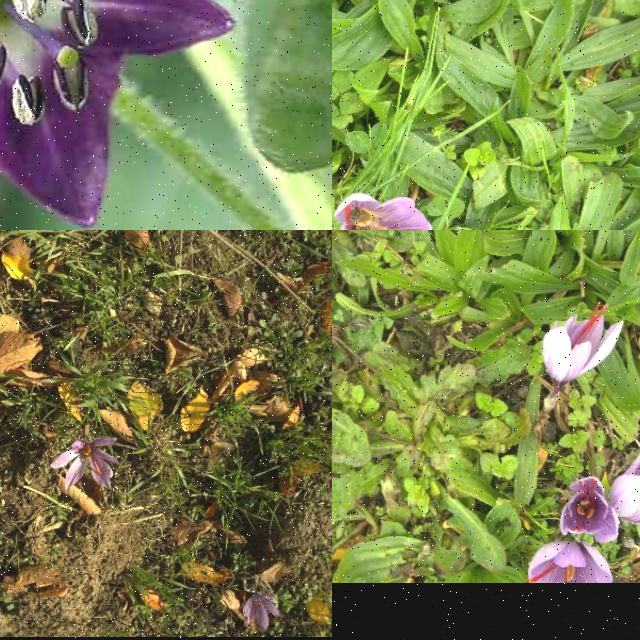flower: (544, 302, 624, 388), (524, 538, 614, 584), (560, 478, 620, 544), (49, 436, 119, 492), (334, 192, 433, 230), (609, 430, 640, 525), (243, 592, 281, 630)
